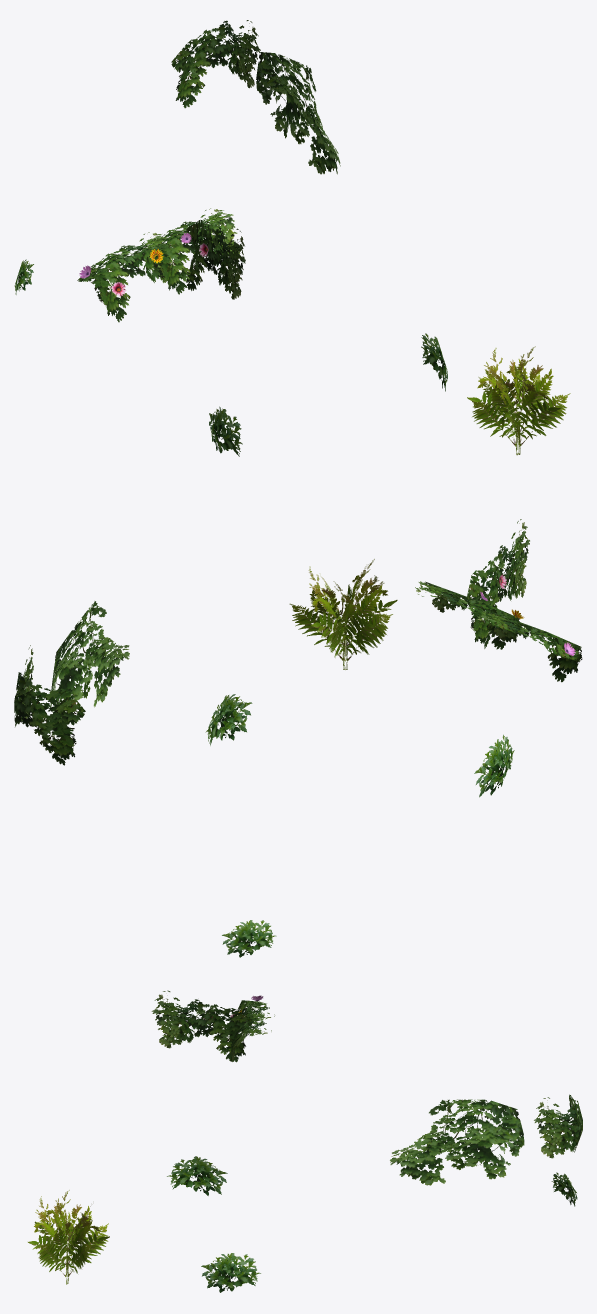
The model's file is rome_corral_plants.dae.
3 renders of one model, top to bottom at view 1: azimuth 30°, elevation 25°; view 2: azimuth 150°, elevation 25°; view 3: azimuth 270°, elevation 25°, orthographic. The views are drawn at different scales.
Visible parts, largest first — view 1: rome_corral_plants; view 2: rome_corral_plants; view 3: rome_corral_plants.
Boxes of the visible parts, x1,y1,x2,y2 form: rome_corral_plants: (14,20,570,456); rome_corral_plants: (14,519,582,957); rome_corral_plants: (28,990,582,1292).
Size of the model in its own units: 10.81 by 16.37 by 6.64.
